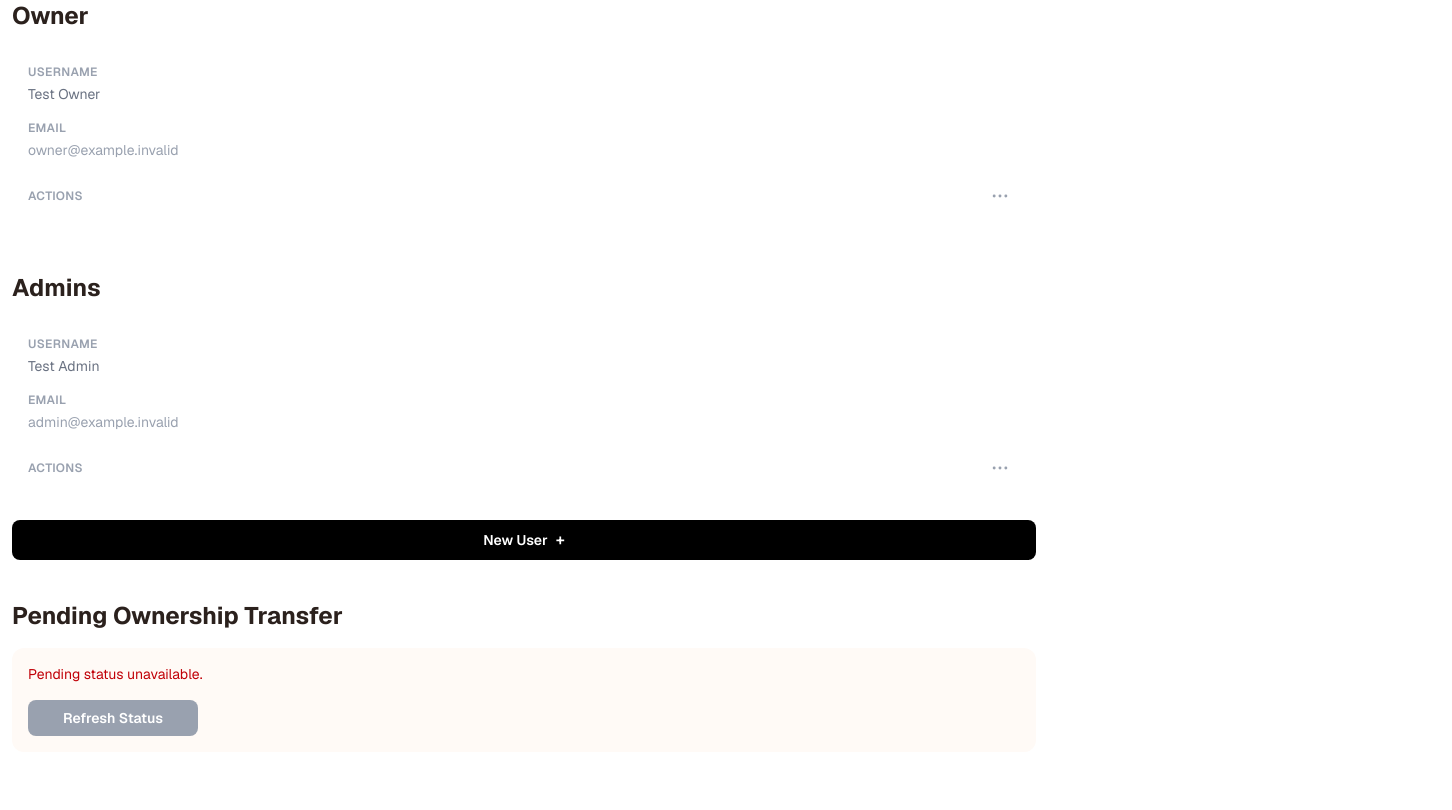
Admin page pending ownership-transfer controls › shows a lookup error and allows Refresh Status to retry
This screenshot has width=1452, height=810.
Check: the message reads "Pending status unavailable.", box [28,665,202,683]
Check: the heading "Pending Ownership Transfer" is shown, box [12,600,343,631]
What coordinates should you click on to do the following:
click the button "Refresh Status"
I would click on:
 (113, 718)
Its box is [28,700,198,736].
(page scrolled)
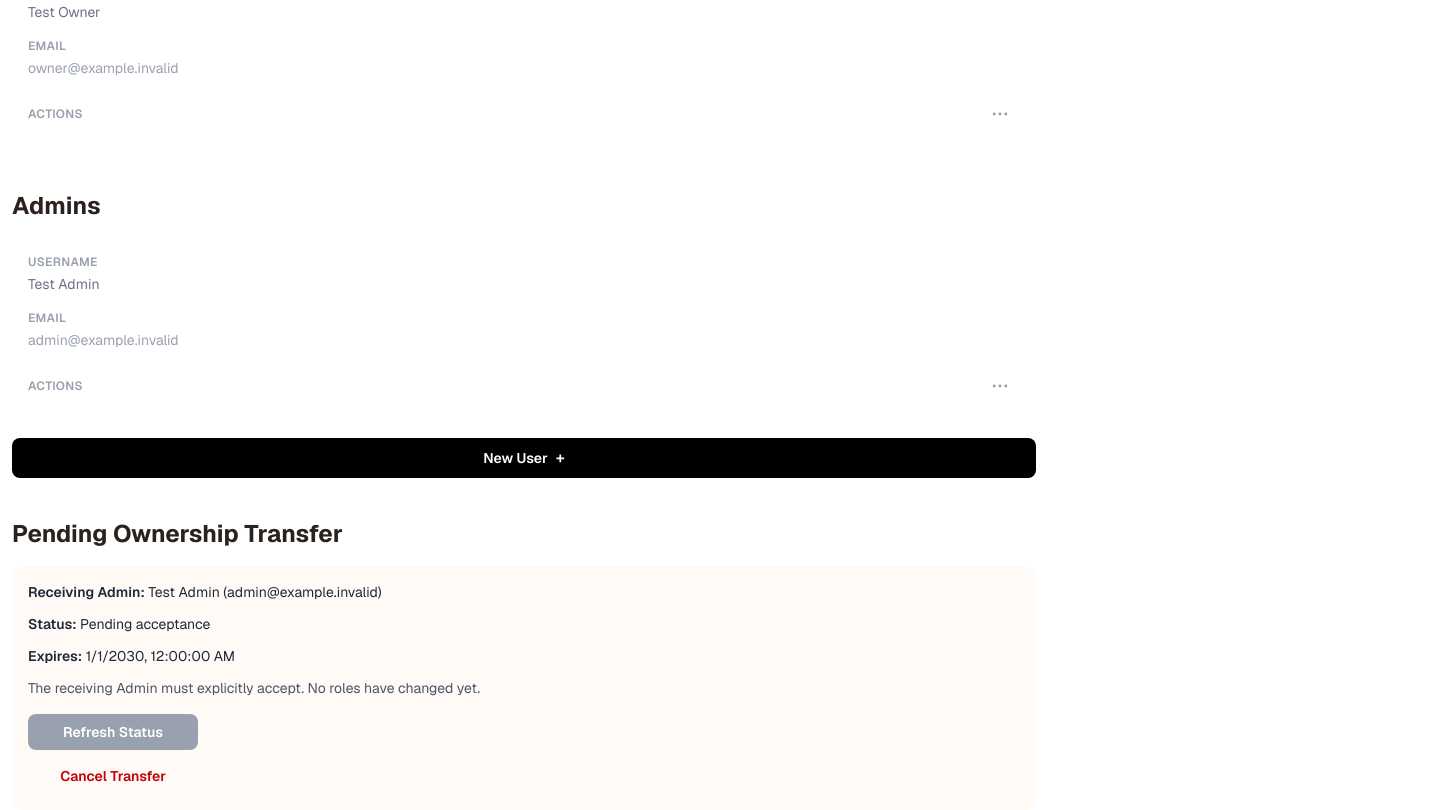
Check: the button "Cancel Transfer" is shown, box [28,758,198,794]
Check: the text "Pending status unavailable." is gone
